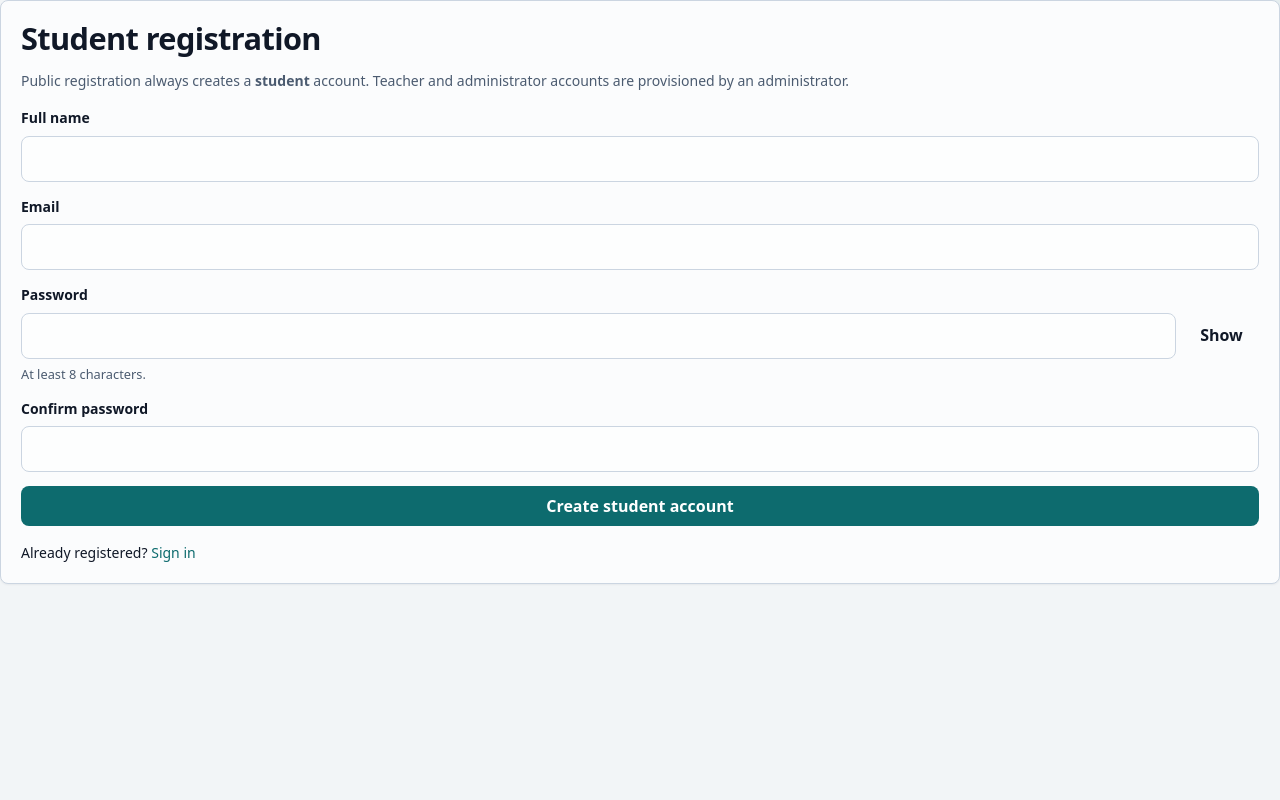
Test: RegisterPage › shows a sign-in hint and does not redirect when no session is returned
In the field labelled "Full name": (640, 159) [21,136,1259,182], type "New Student"
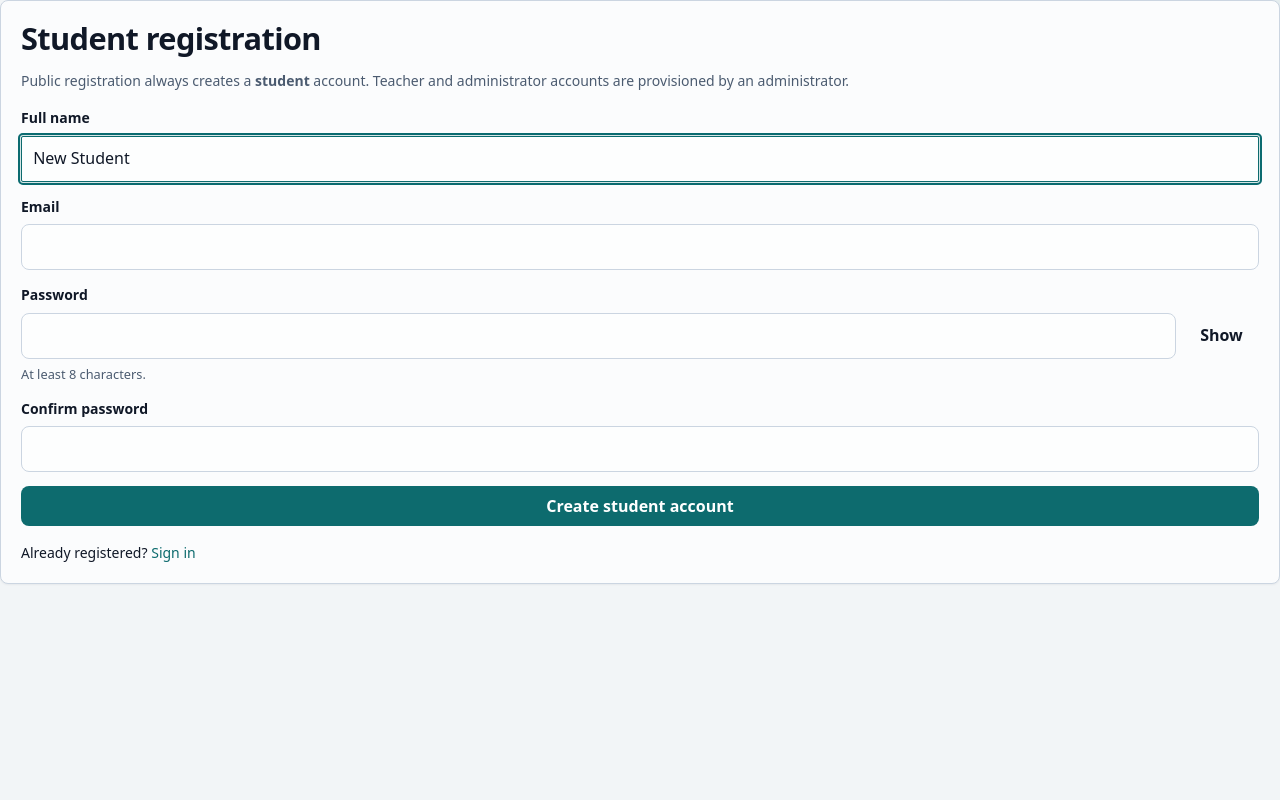
In the field labelled "Email": (640, 247) [21,224,1259,270], type "new@exam.test"
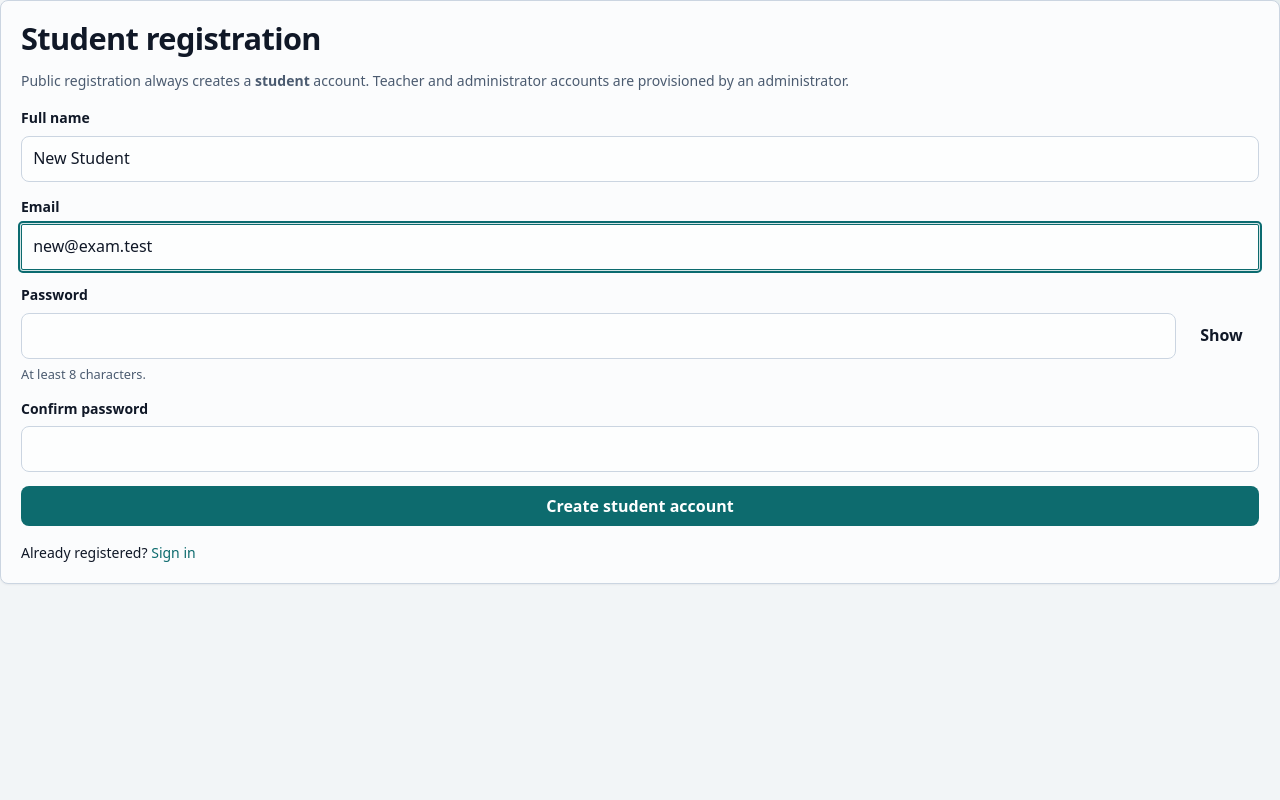
In the password field labelled "Password": (598, 336) [21,312,1176,359], type "Passw0rd!123"
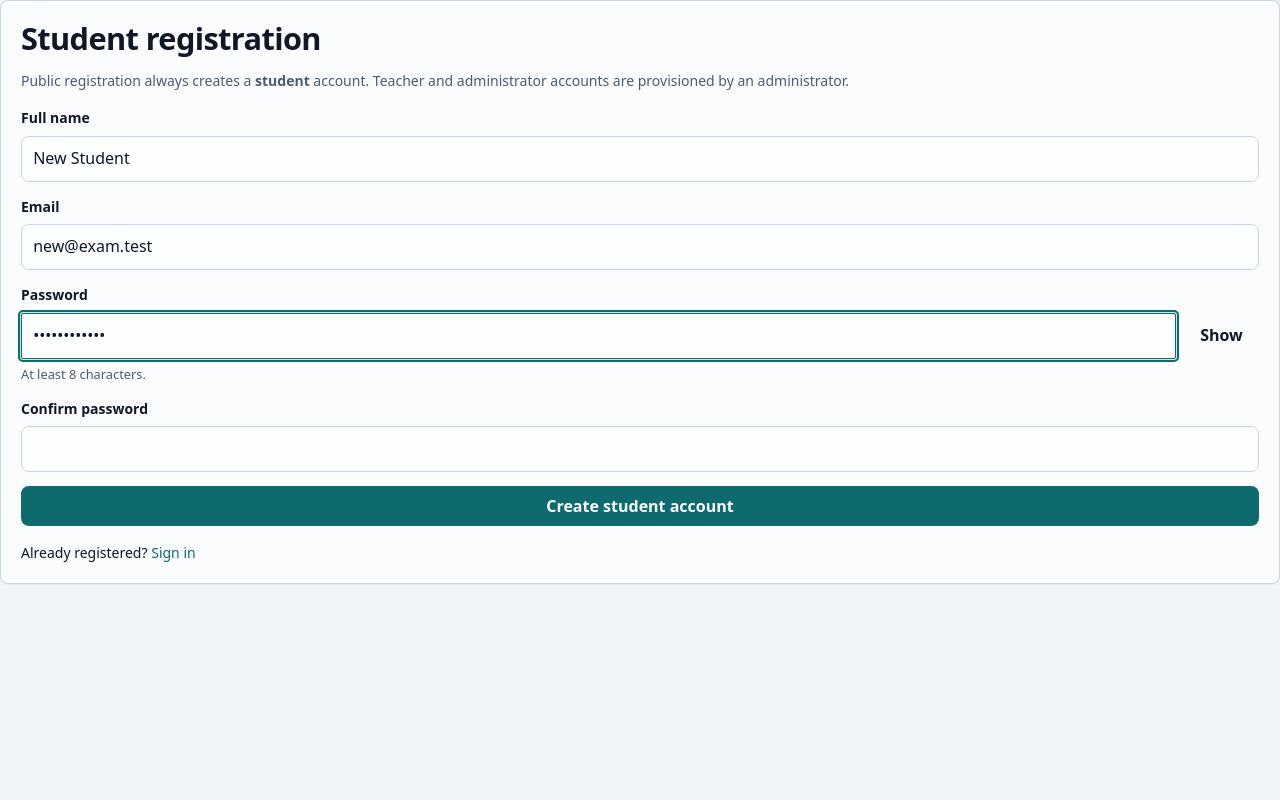
In the password field labelled "Confirm password": (640, 449) [21,426,1259,472], type "Passw0rd!123"
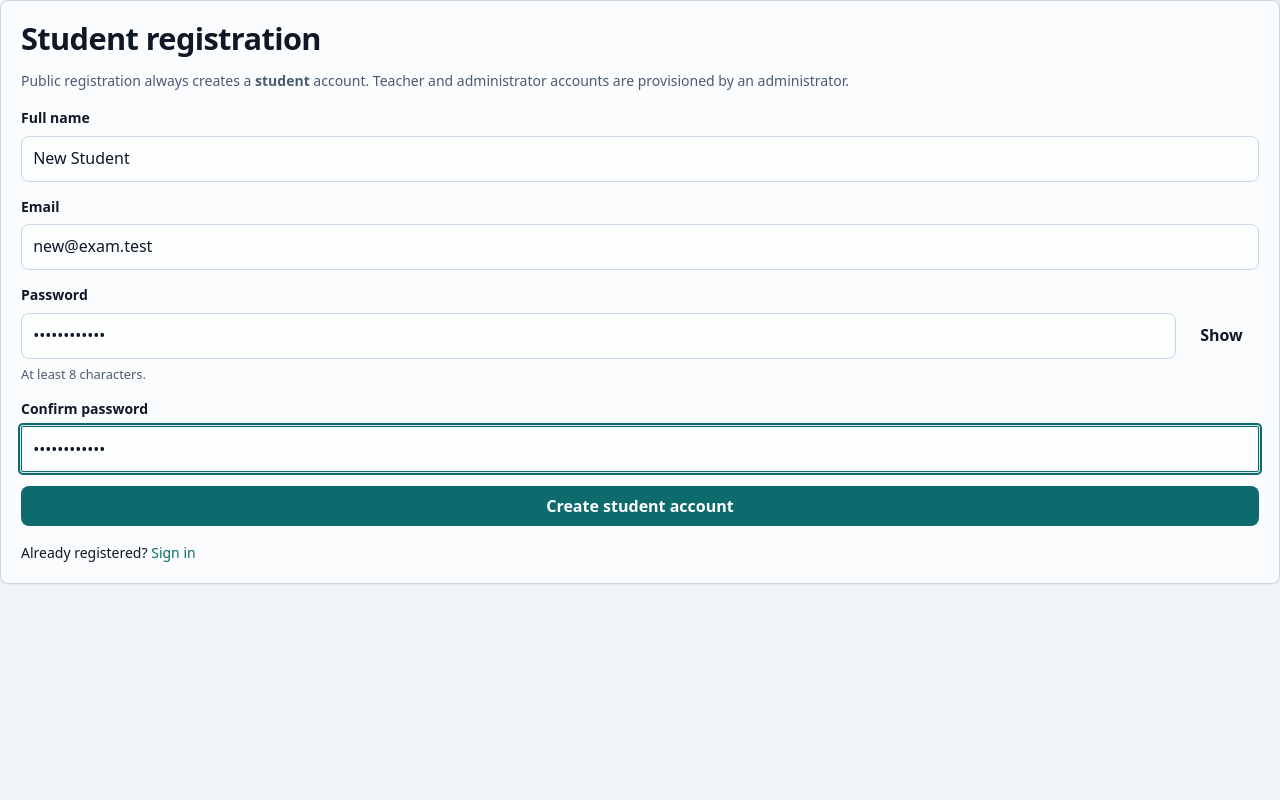
Click the button "Create student account": (640, 506) [21,486,1259,526]
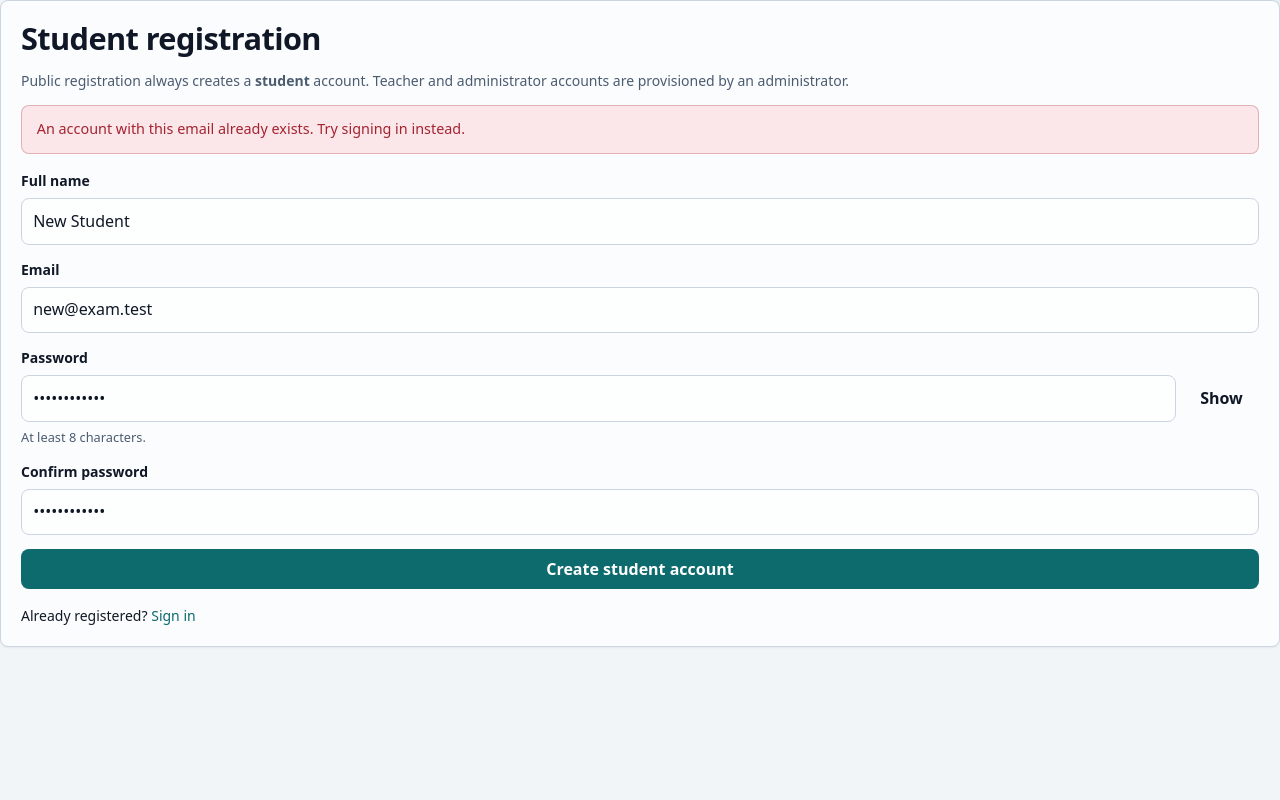
Expected: the message shows "already exists", [37,119,465,138]
